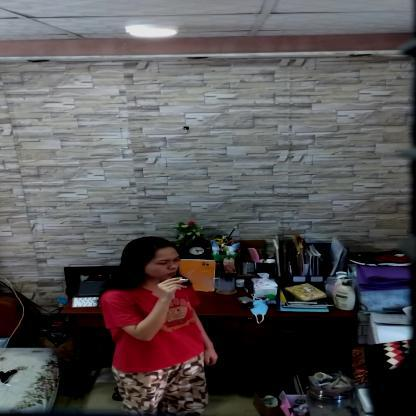cigarette: (179, 278, 190, 281)
person: (96, 235, 221, 415)
